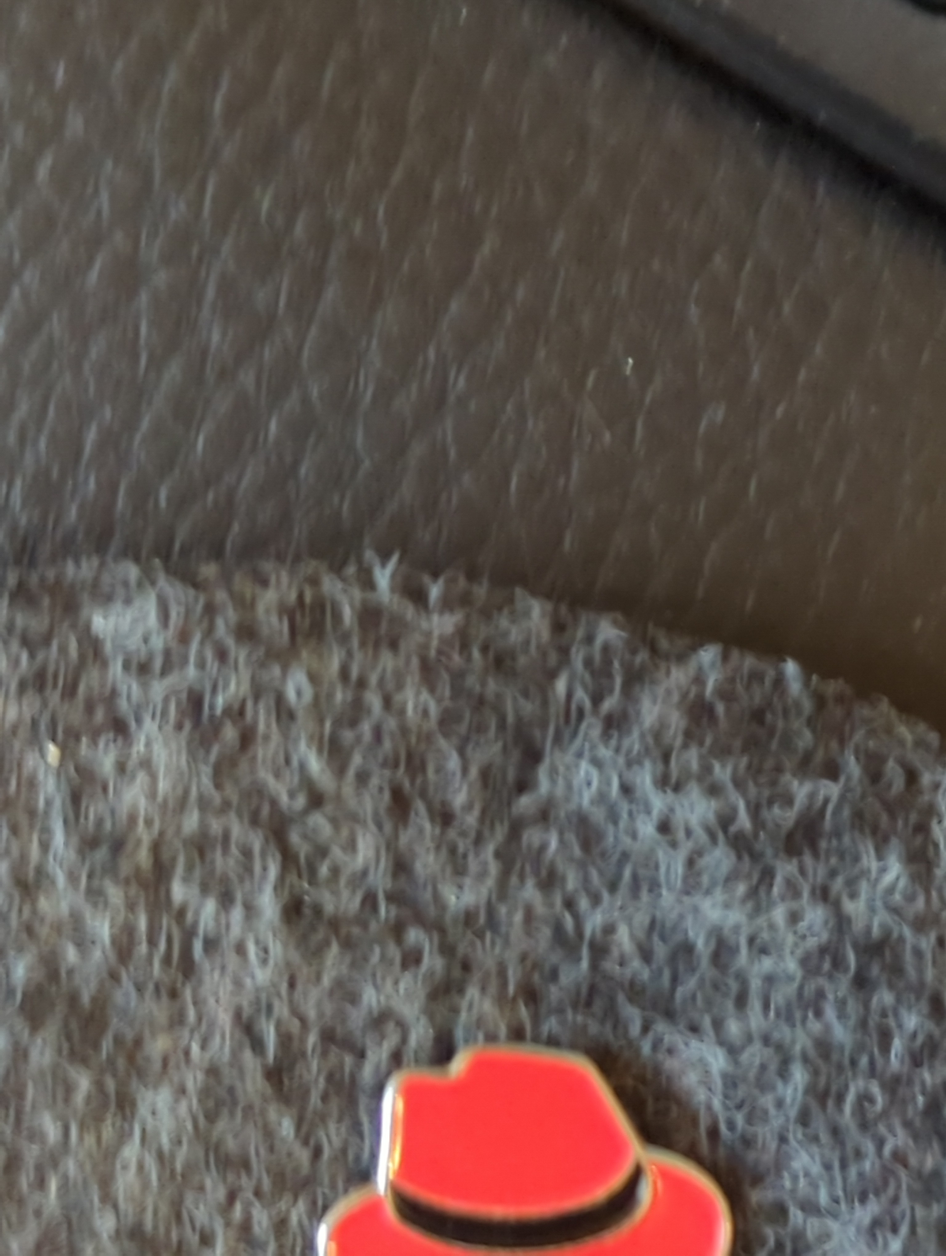Red-Hat: (245, 936, 839, 1256)
